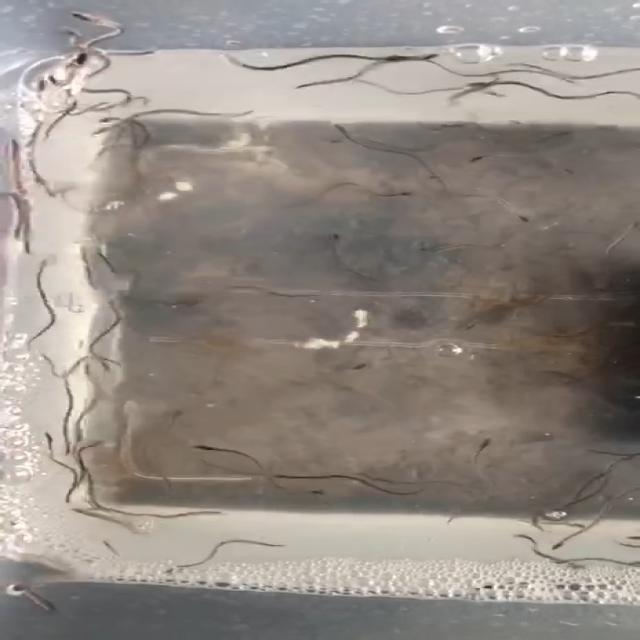inactive_glass_eel: (462, 210, 532, 225), (39, 72, 78, 96), (26, 588, 65, 612), (62, 48, 100, 72), (372, 47, 415, 67), (69, 10, 110, 29), (474, 434, 507, 457), (409, 49, 446, 69), (324, 118, 353, 143), (4, 138, 27, 166), (81, 122, 117, 139), (375, 188, 413, 204), (182, 440, 221, 455), (546, 536, 576, 554), (458, 76, 500, 88), (74, 356, 95, 379), (31, 73, 51, 97), (417, 243, 456, 255), (152, 410, 185, 424), (92, 352, 115, 372), (344, 360, 374, 375), (196, 507, 230, 520), (465, 316, 489, 332), (37, 430, 58, 448), (304, 487, 330, 501), (514, 533, 538, 544), (267, 473, 291, 482), (456, 154, 472, 166), (334, 230, 348, 243), (619, 532, 640, 540)
